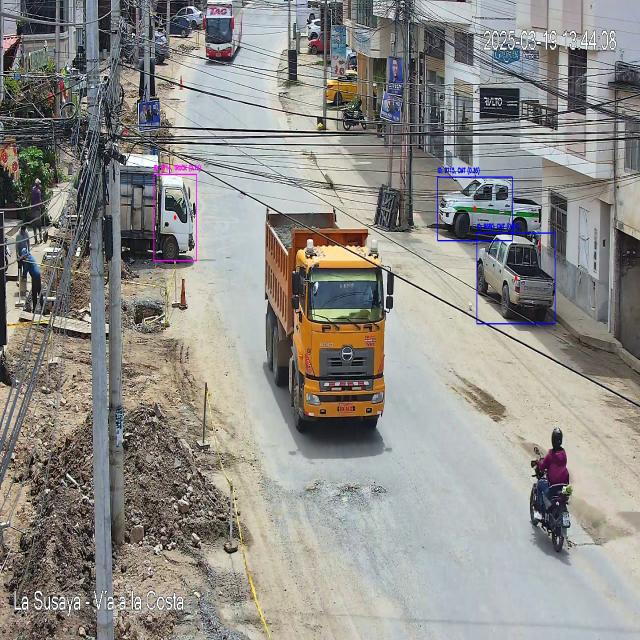MOTORCYCLE: (527, 473, 577, 552)
TRUCK: (264, 208, 394, 433)
